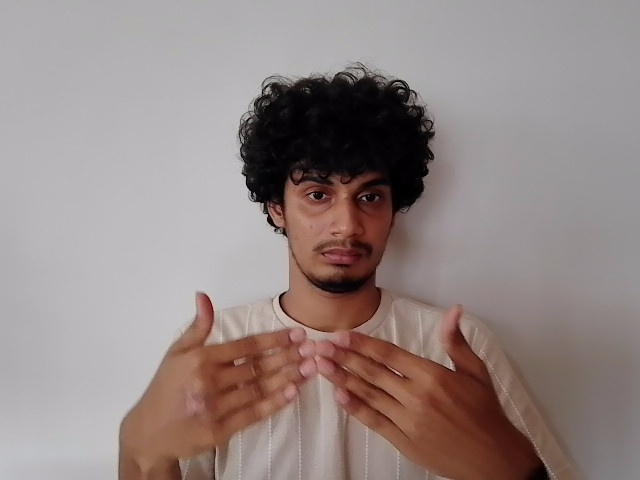family: (119, 289, 528, 480)
